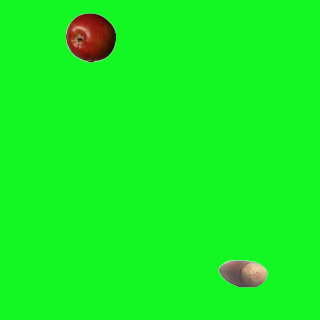Apple Braeburn: (65, 12, 115, 62)
Hazelnut: (217, 248, 267, 298)
